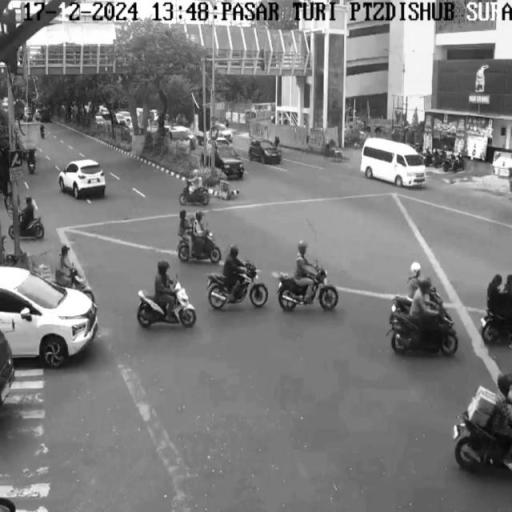bus: (361, 134, 426, 188)
car: (54, 159, 110, 197)
motorcycle: (385, 300, 466, 360), (136, 278, 196, 330), (274, 271, 341, 312), (204, 268, 268, 308), (174, 228, 228, 261)
